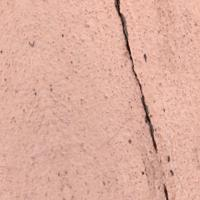crack: (112, 0, 170, 155)
